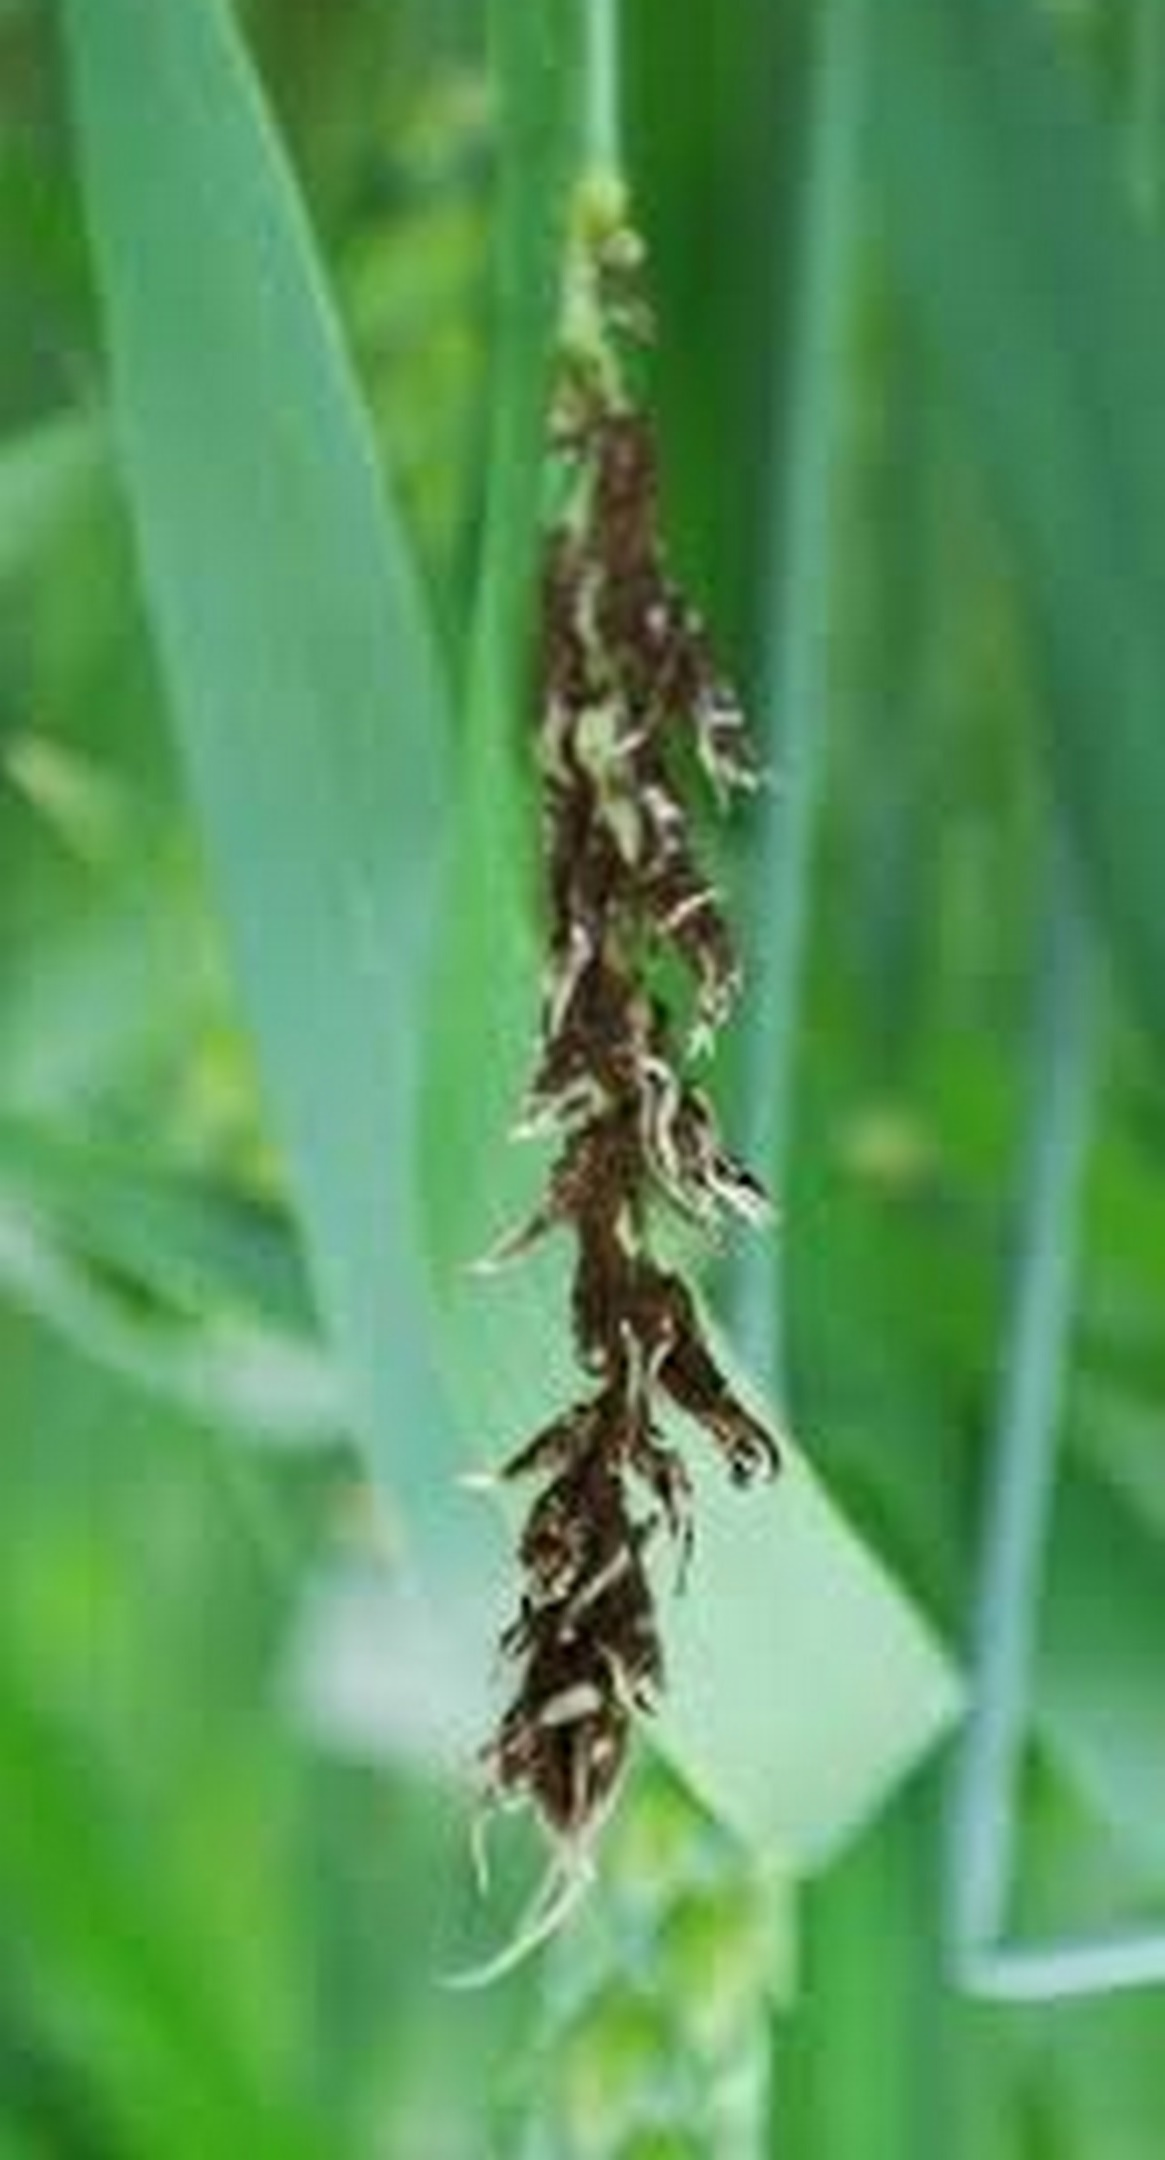Wheat Loose Smut: (440, 392, 791, 1913)
